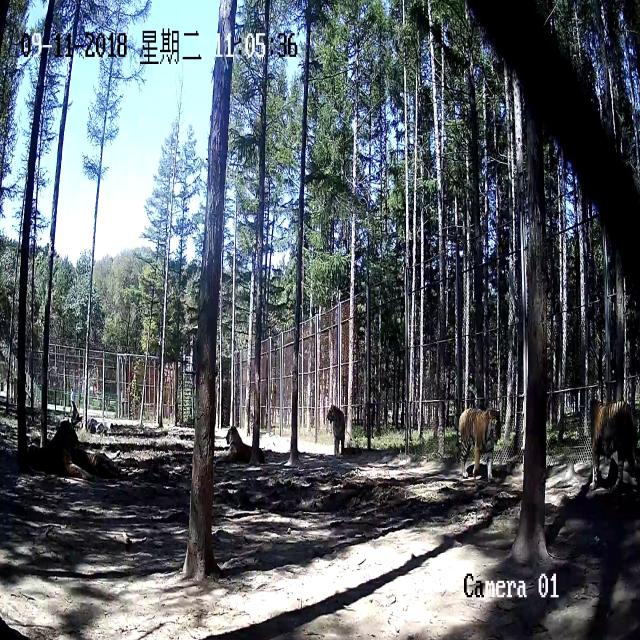Tiger: (584, 384, 640, 492), (5, 424, 85, 490), (454, 396, 510, 488), (217, 416, 266, 476), (326, 397, 358, 471), (86, 448, 132, 488)
